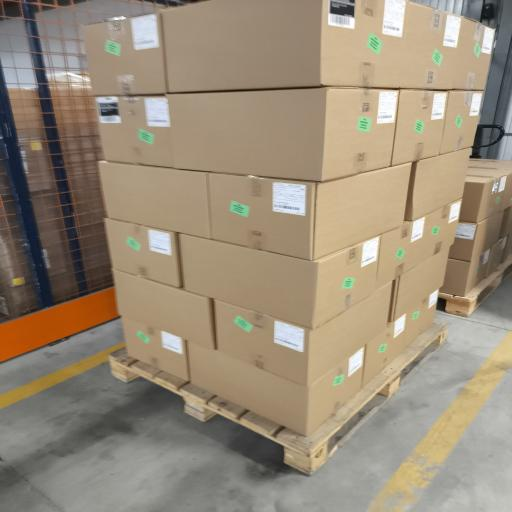pallet: (110, 321, 448, 474), (439, 255, 511, 316)
